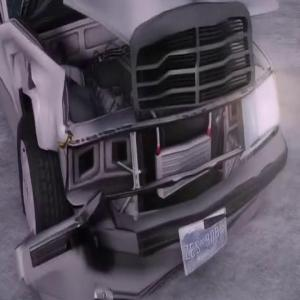low_impact: (0, 0, 291, 300)
